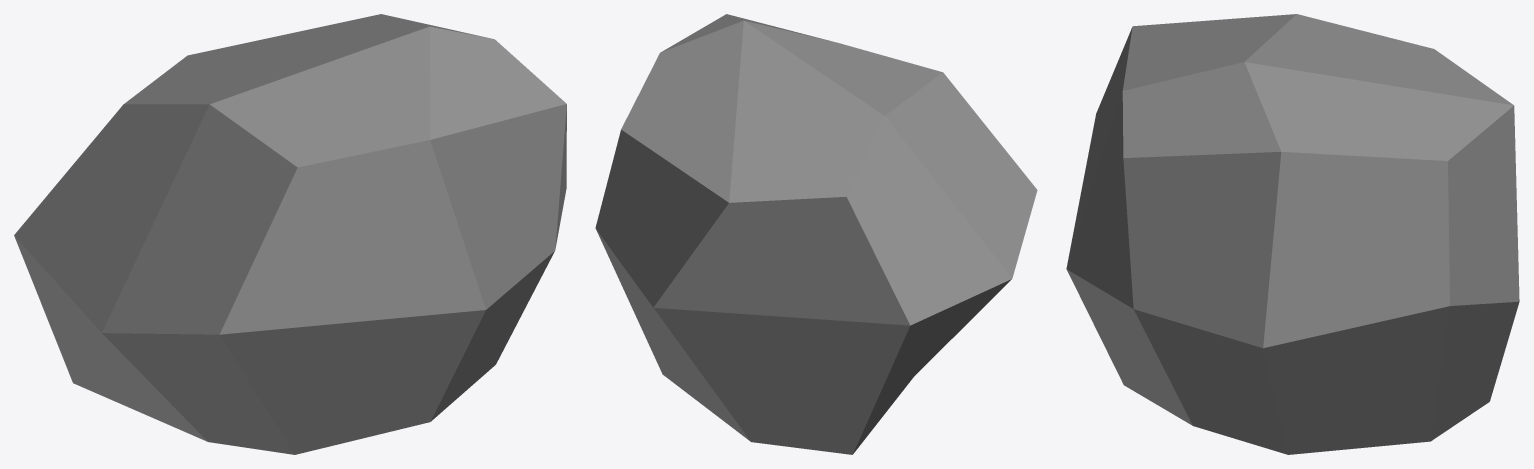
File: roccia6.obj
The picture shows the model from 3 angles, left to right: view 1: azimuth 30°, elevation 25°; view 2: azimuth 150°, elevation 25°; view 3: azimuth 270°, elevation 25°; orthographic projection. The views are drawn at different scales.
Parts seen in each view (by area): view 1: Rock_10; view 2: Rock_10; view 3: Rock_10.
Part boxes in pixels (left/top/right/bottom): Rock_10: left=14, top=14, right=566, bottom=454; Rock_10: left=595, top=14, right=1037, bottom=454; Rock_10: left=1066, top=14, right=1519, bottom=454.
Size of the model in its own units: 3.46 by 2.73 by 2.78.
Materials: 1 (1 with a texture image).
